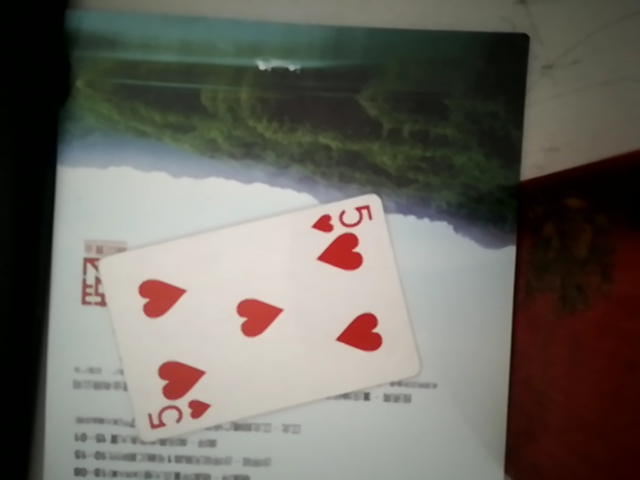hx 5: (100, 187, 422, 441)
